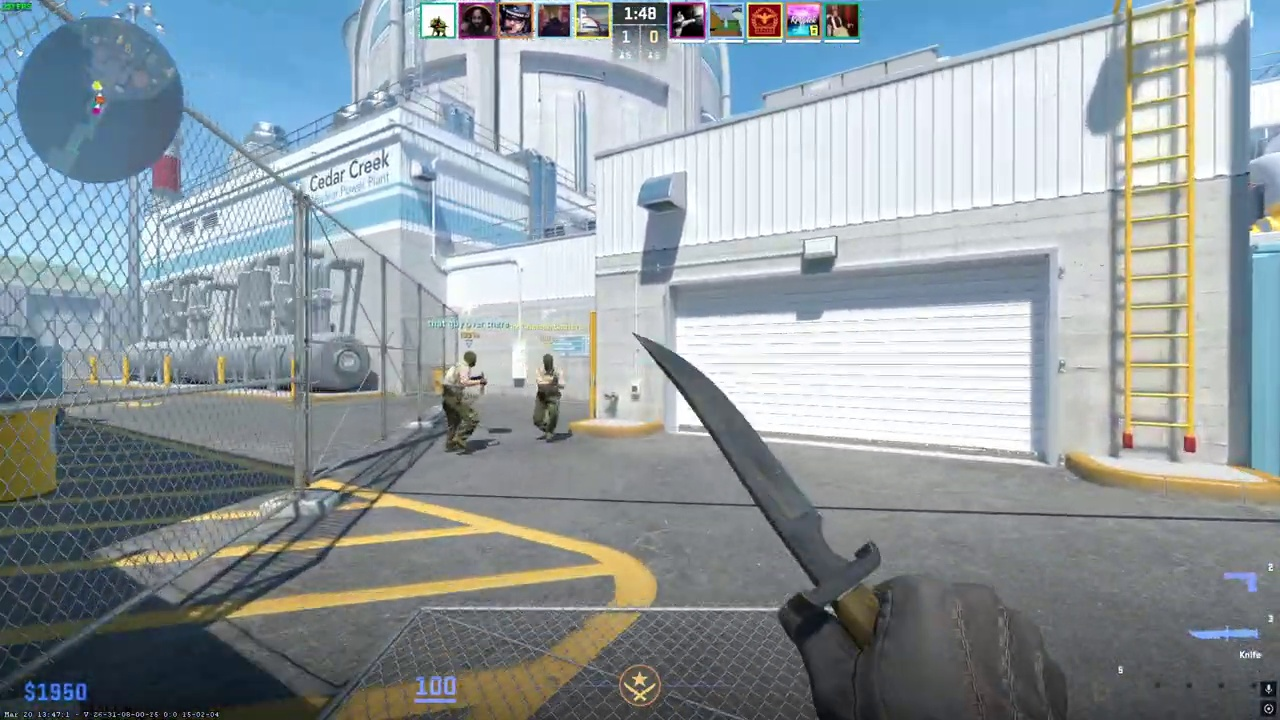Terrorist: (442, 351, 486, 452), (532, 353, 565, 443)
